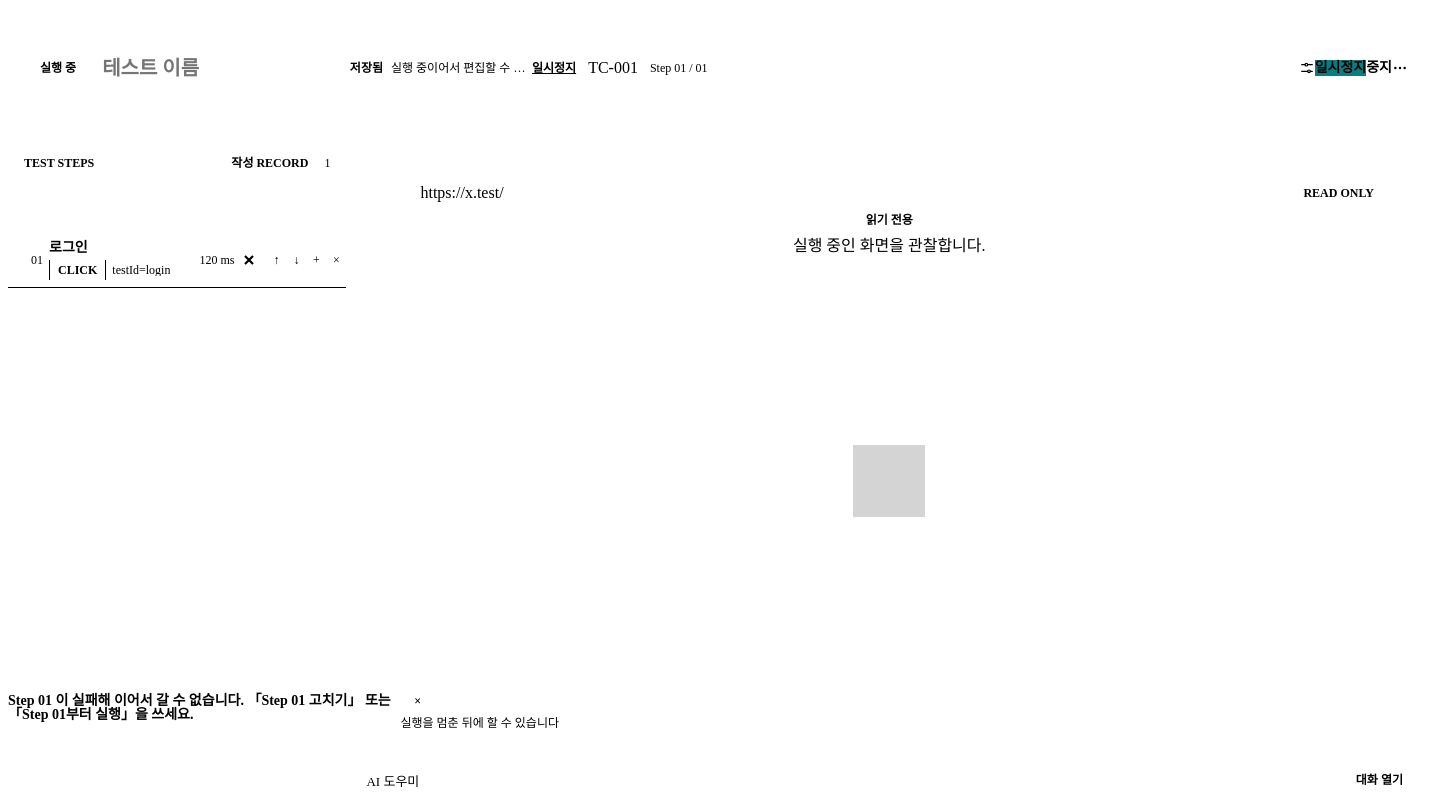
it: 실행 종료 표시 › 실행 중에는 결과로 가는 길이 아직 열리지 않는다
The image size is (1440, 810).
# 감추지 않고 **비활성으로 남긴다** — 감추면 사용자는 그런 길이 없는 줄 안다.
Click the button named "화면 메뉴".
click(1400, 68)  # box [1392, 59, 1408, 77]
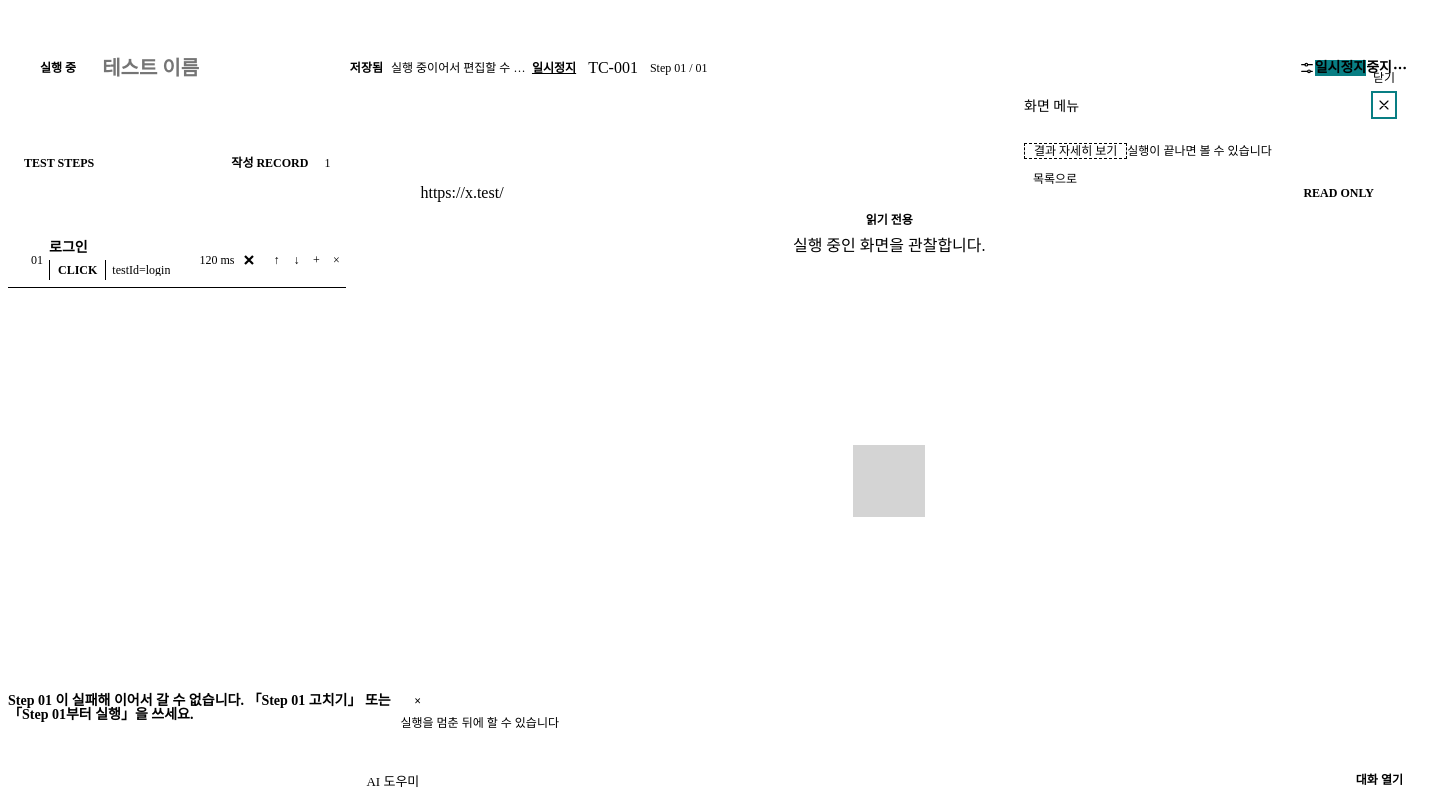
Expected: the button "결과 자세히 보기" is disabled, [1024, 143, 1127, 159]
Expected: the element showing "실행이 끝나면 볼 수 있습니다" is shown, [1127, 143, 1272, 160]
